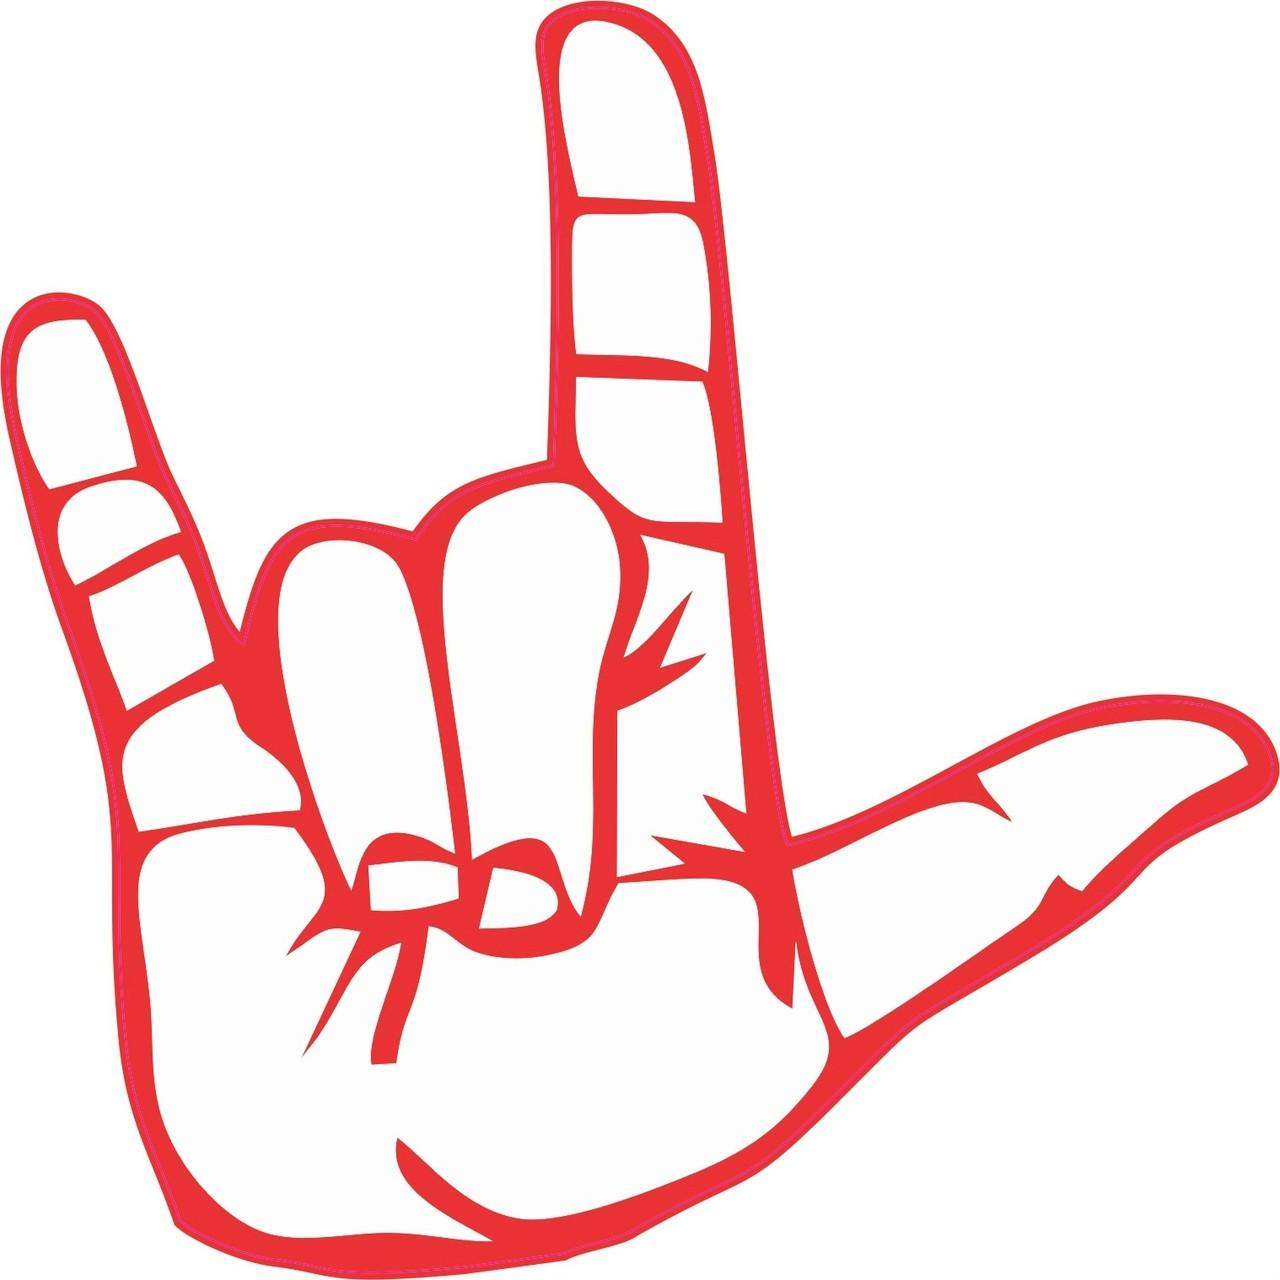Love_you: (0, 0, 1278, 1280)
